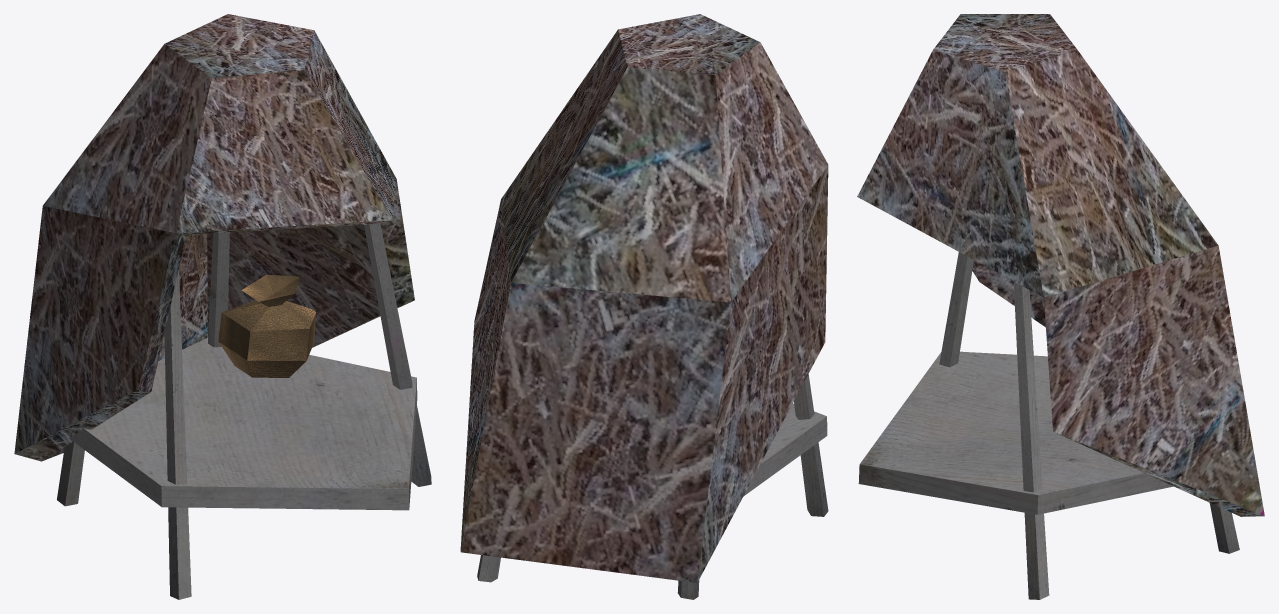
Rendered from StrawHut.glb.
The picture shows the model from 3 angles, left to right: view 1: azimuth 30°, elevation 25°; view 2: azimuth 150°, elevation 25°; view 3: azimuth 270°, elevation 25°; orthographic projection. The views are drawn at different scales.
Visible parts, largest first — view 1: StrawHut; view 2: StrawHut; view 3: StrawHut.
Boxes of the visible parts, <box> form: StrawHut: <box>14,14,431,599</box>; StrawHut: <box>460,14,828,599</box>; StrawHut: <box>857,14,1264,599</box>.
Size of the model in its own units: 1.91 by 2.72 by 2.15.
Materials: 1 (1 with a texture image).
